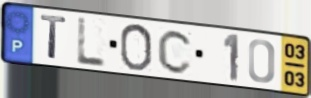0: (246, 38, 277, 85)
1: (222, 33, 241, 84)
C: (156, 27, 195, 76)
L: (75, 16, 108, 69)
O: (118, 22, 154, 72)
T: (39, 13, 69, 62)
